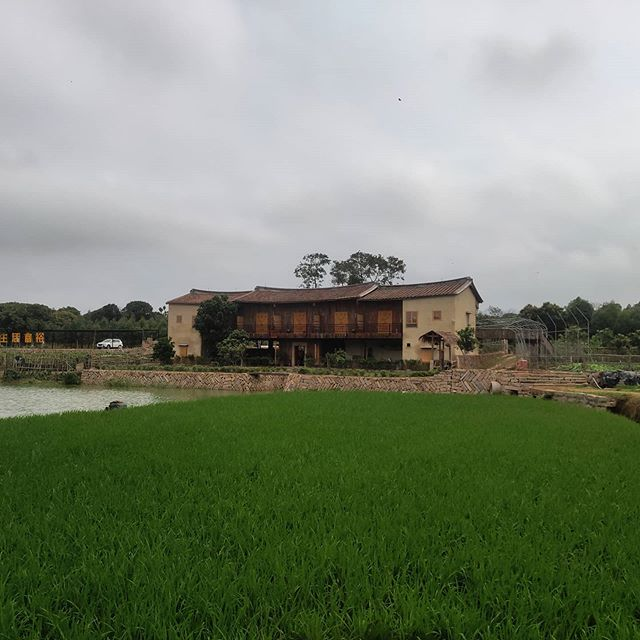building: (172, 283, 484, 365)
grass: (26, 391, 640, 640)
river: (1, 372, 220, 426)
sky: (1, 1, 634, 283)
